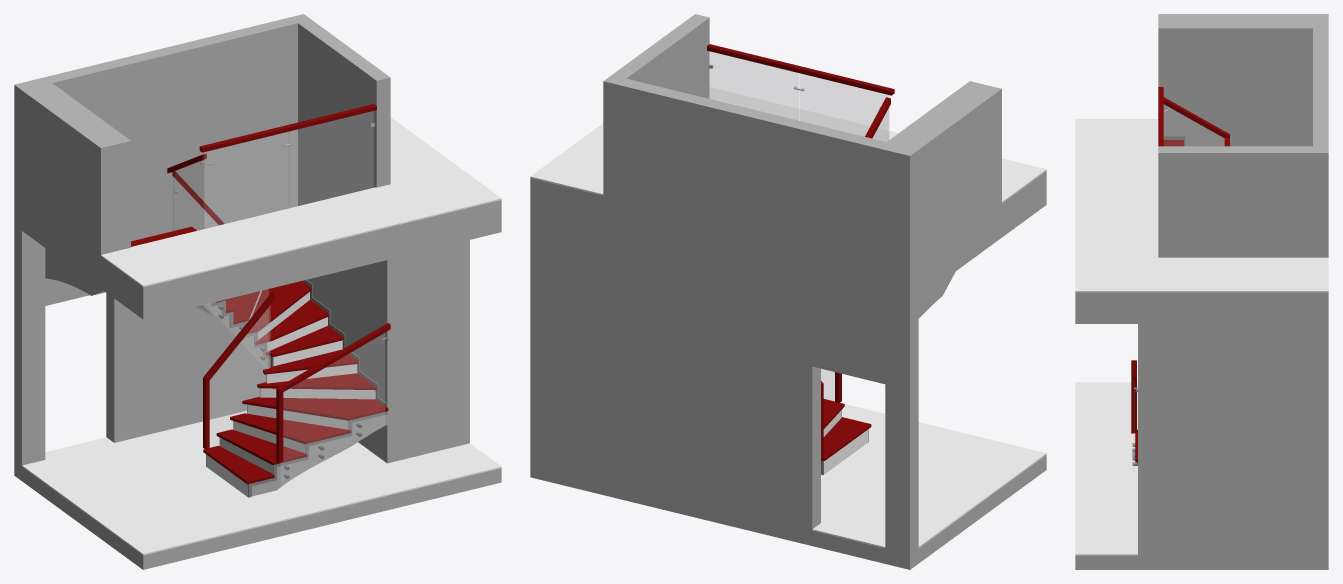
The model's file is лестница со стеклянным ограждением дом 121.obj.
3 renders of one model, left to right at view 1: azimuth 30°, elevation 25°; view 2: azimuth 150°, elevation 25°; view 3: azimuth 270°, elevation 25°, orthographic. The views are drawn at different scales.
Size of the model in its own units: 5.2 by 5.42 by 3.24.
